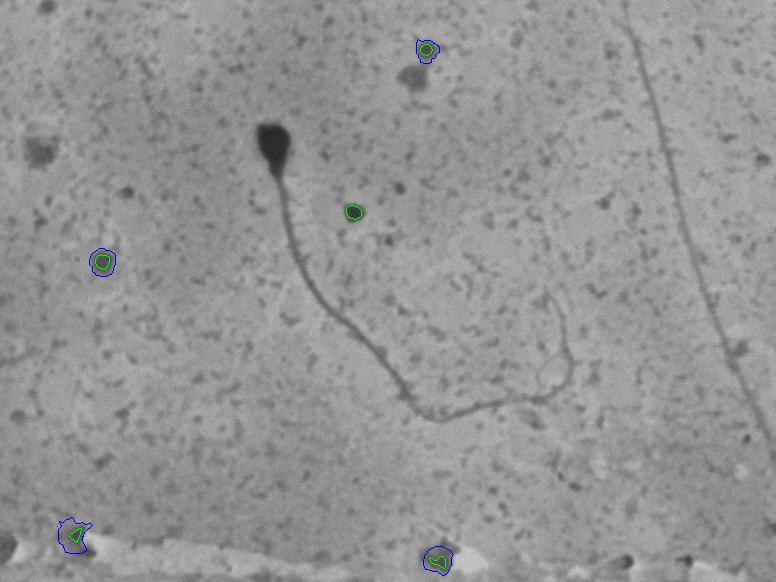Abnormal: (223, 76, 602, 470)
